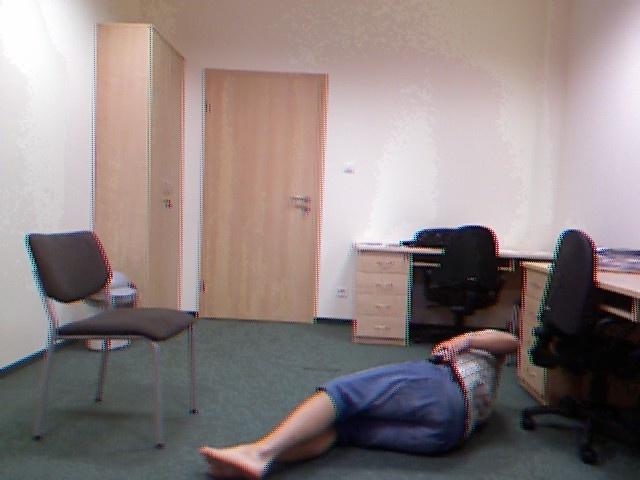fall: (200, 310, 527, 480)
